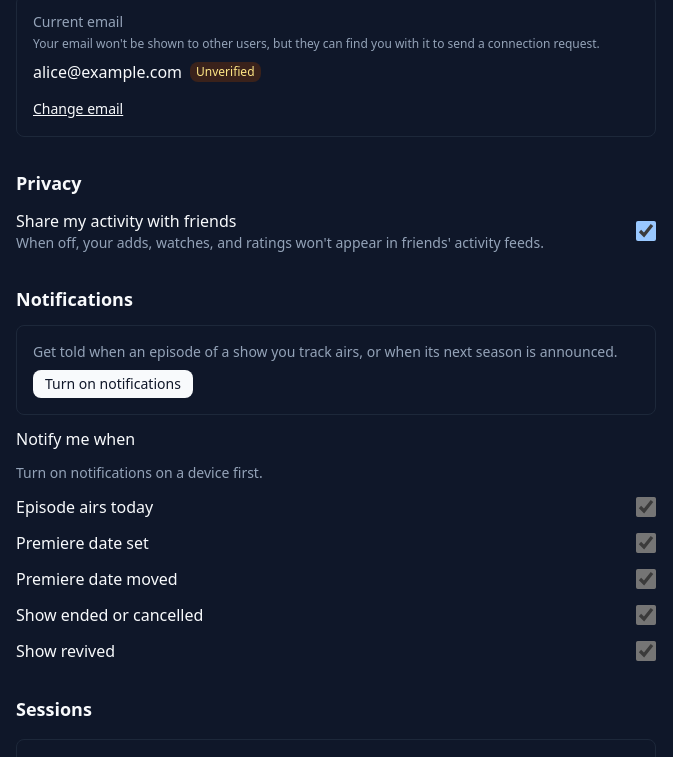
it: Turn on notifications › asks for permission exactly once, and only from the click
(page scrolled)
Click the button "Turn on notifications" at (113, 384), box [33,370,193,398]
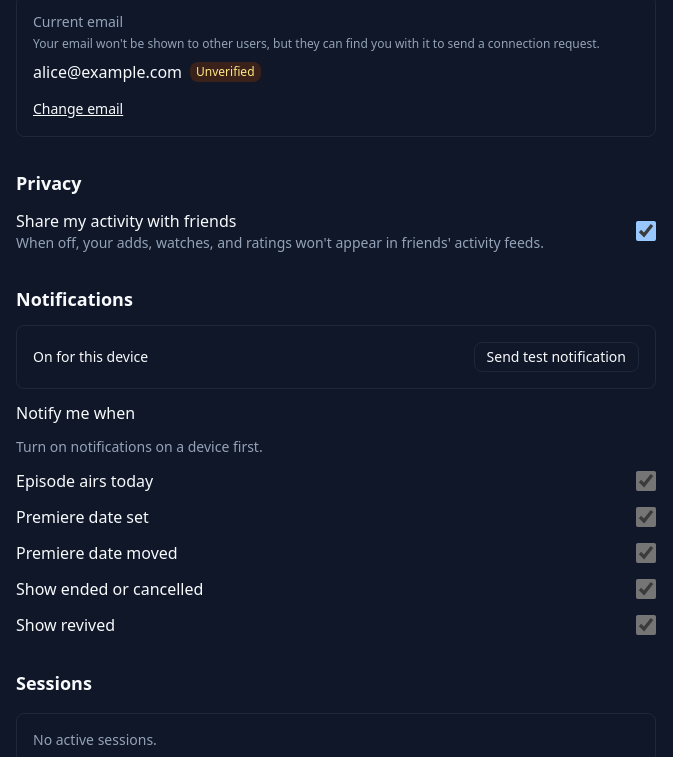
Expected: the text "On for this device" is shown, [33,347,148,367]
